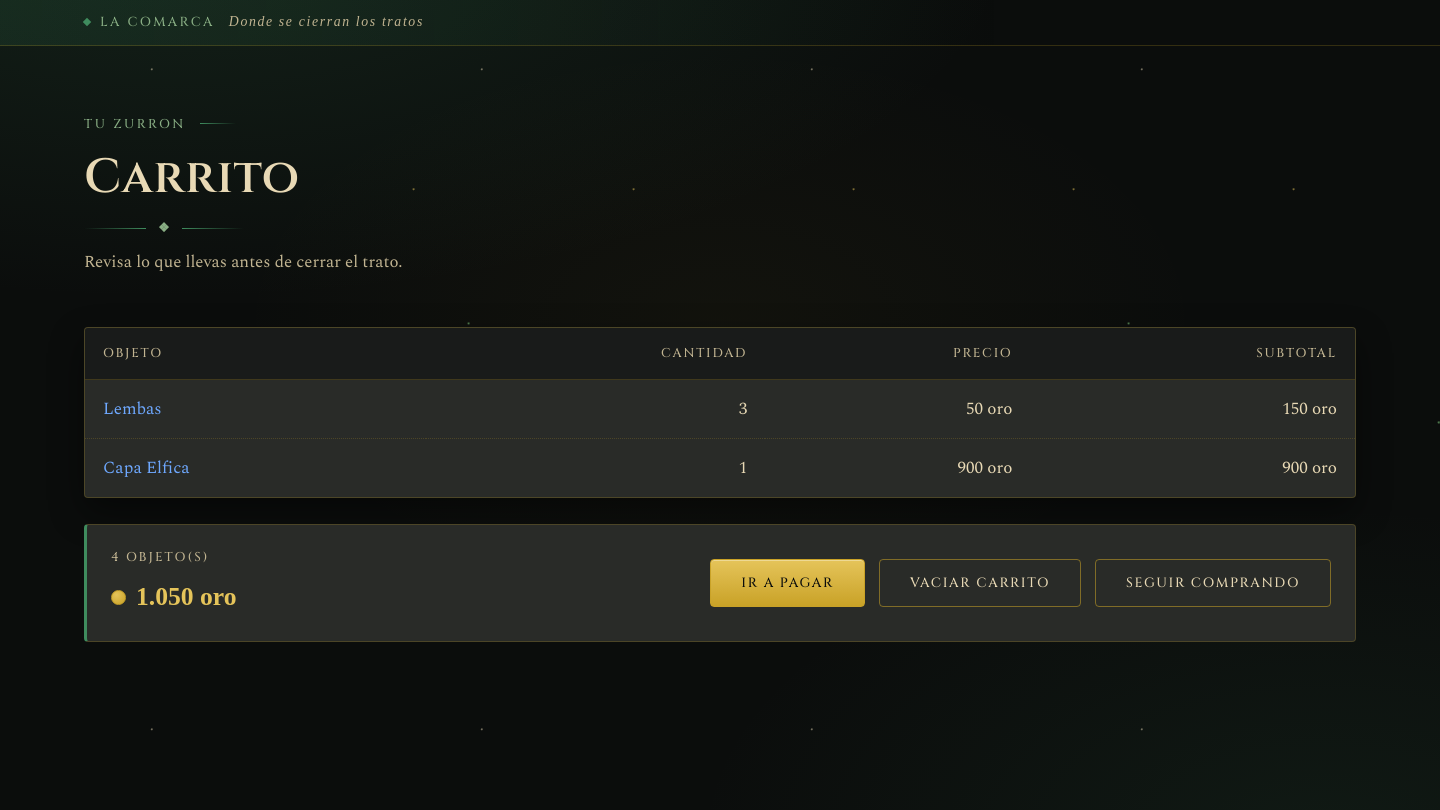
Scenario: Carrito › vaciar el carrito › deja la venta ANULADA y muestra el carrito vacio
Click the button "Vaciar carrito" at [980, 583], box [879,559,1081,607]
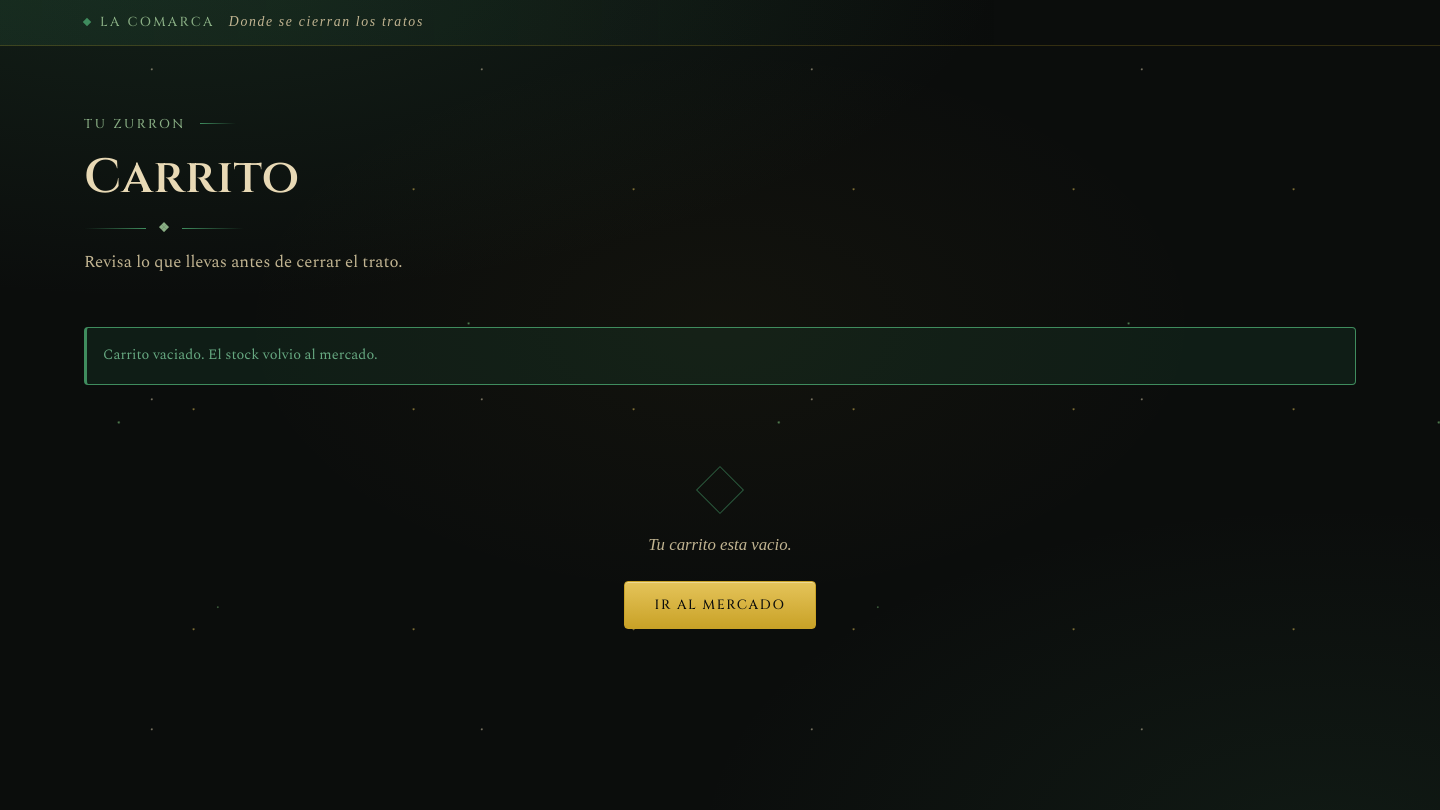
Expected: the text "Tu carrito esta vacio." is shown, [648,535,792,554]
